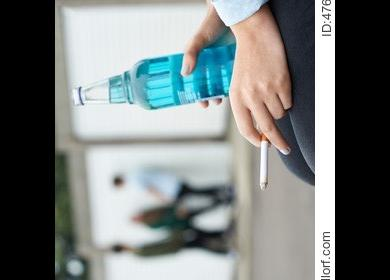Cigarette: (260, 134, 270, 190)
